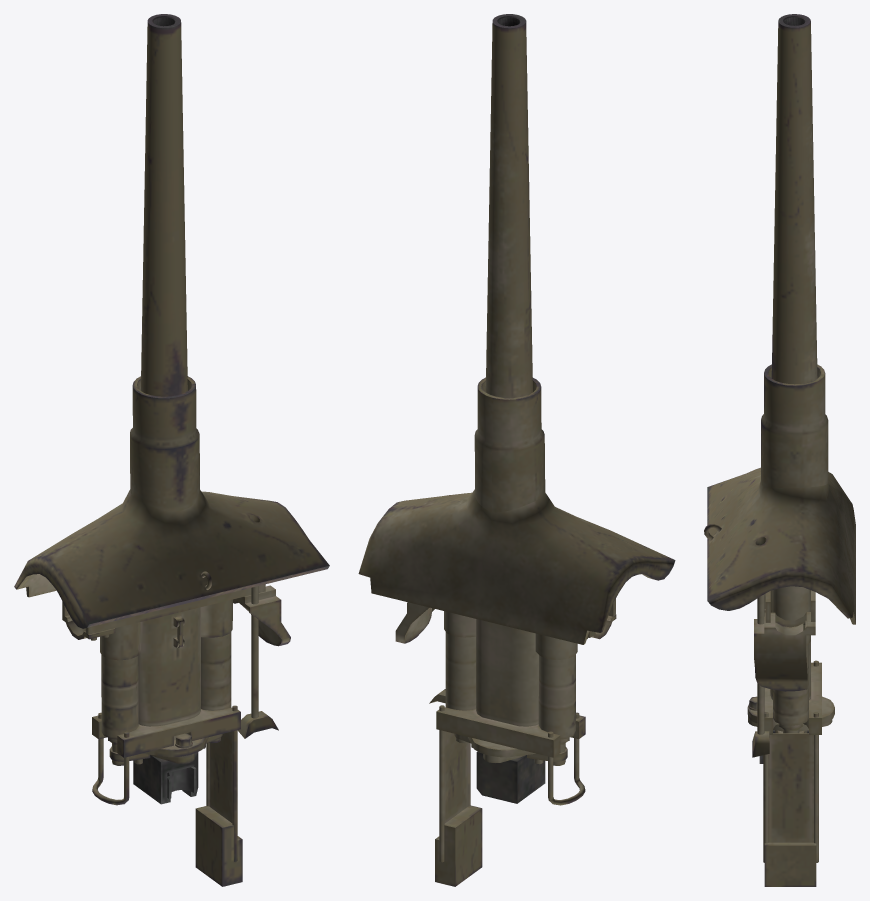
File: Gun_02.glb
3 views of the same model, side by side, from view 1: azimuth 30°, elevation 25°; view 2: azimuth 150°, elevation 25°; view 3: azimuth 270°, elevation 25° (orthographic). The views are drawn at different scales.
Visible parts, largest first — view 1: set_0_group_0; view 2: set_0_group_0; view 3: set_0_group_0.
Boxes of the visible parts, x1=… form: set_0_group_0: x1=14, y1=14, x2=329, y2=886; set_0_group_0: x1=358, y1=14, x2=675, y2=886; set_0_group_0: x1=704, y1=14, x2=855, y2=886.
Bounding box in the file's own units: 0.945 × 3.24 × 0.5343.
1 material, 1 textured.
